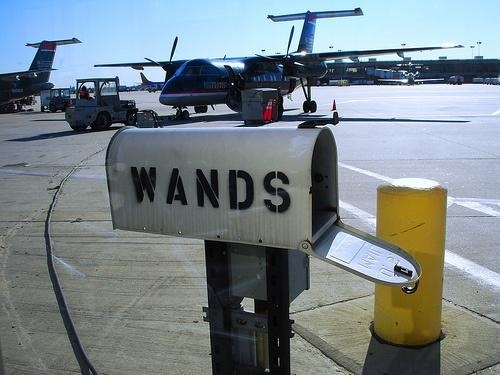aeroplane: (94, 8, 465, 122), (1, 38, 84, 114)
